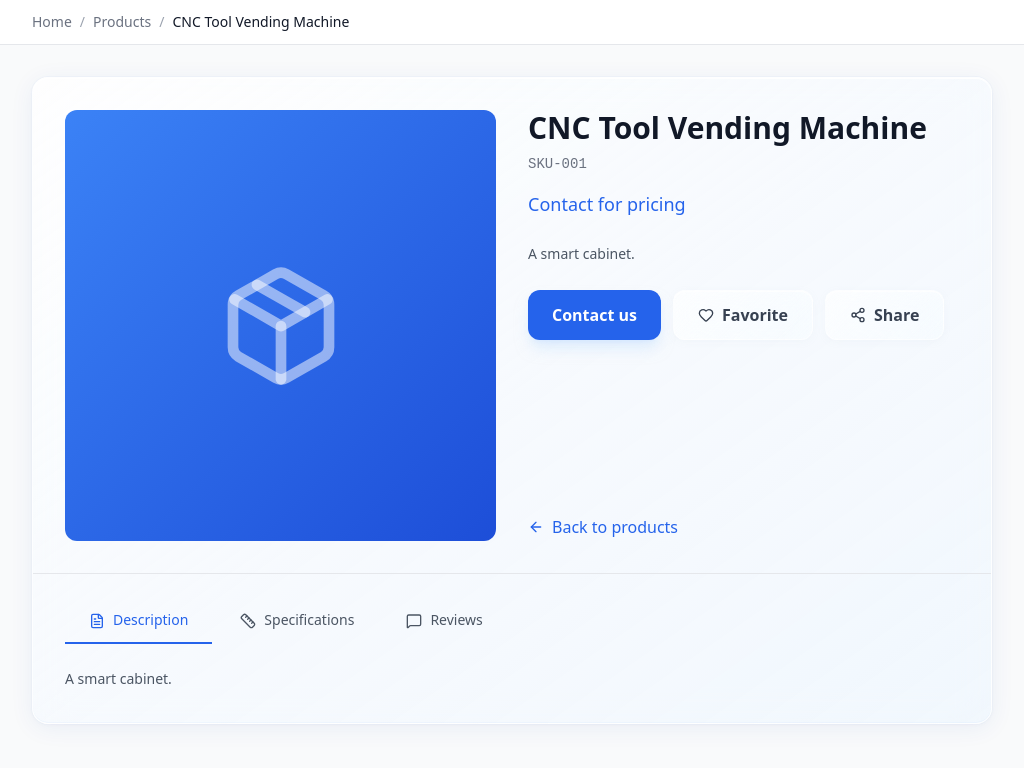
Test case: P2 ProductDetailClient — specs render as a table › legacy string shape -> rendered as text, NOT a table
Click the button "Specifications".
click(297, 621)  # box [216,598,378,644]
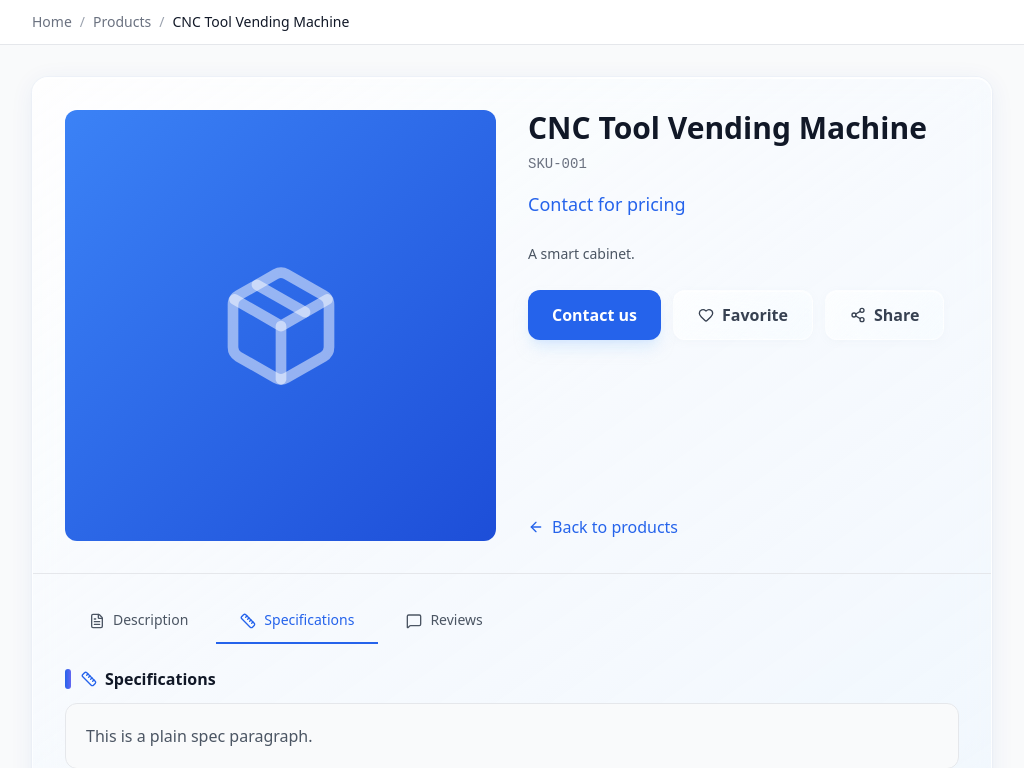
Check: the text "This is a plain spec paragraph." is shown, box [86,725,312,747]
